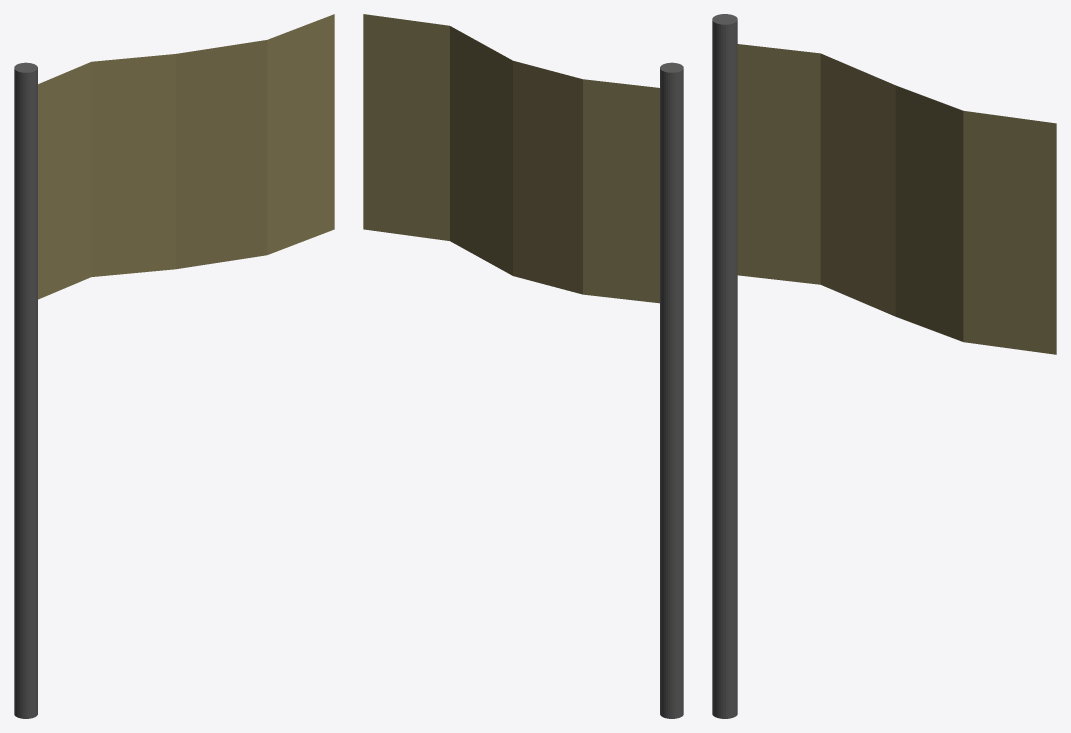
File: Flag.glb
The picture shows the model from 3 angles, left to right: view 1: azimuth 30°, elevation 25°; view 2: azimuth 150°, elevation 25°; view 3: azimuth 330°, elevation 25°; orthographic projection. The views are drawn at different scales.
Visible parts, largest first — view 1: Plane, Cylinder; view 2: Plane, Cylinder; view 3: Plane, Cylinder.
Boxes of the visible parts, x1=… form: Plane: x1=38, y1=14, x2=334, y2=299; Cylinder: x1=14, y1=62, x2=37, y2=718; Plane: x1=363, y1=14, x2=659, y2=303; Cylinder: x1=660, y1=62, x2=683, y2=718; Plane: x1=737, y1=44, x2=1056, y2=354; Cylinder: x1=712, y1=14, x2=737, y2=718.
Size of the model in its own units: 1.55 by 3 by 0.181.
